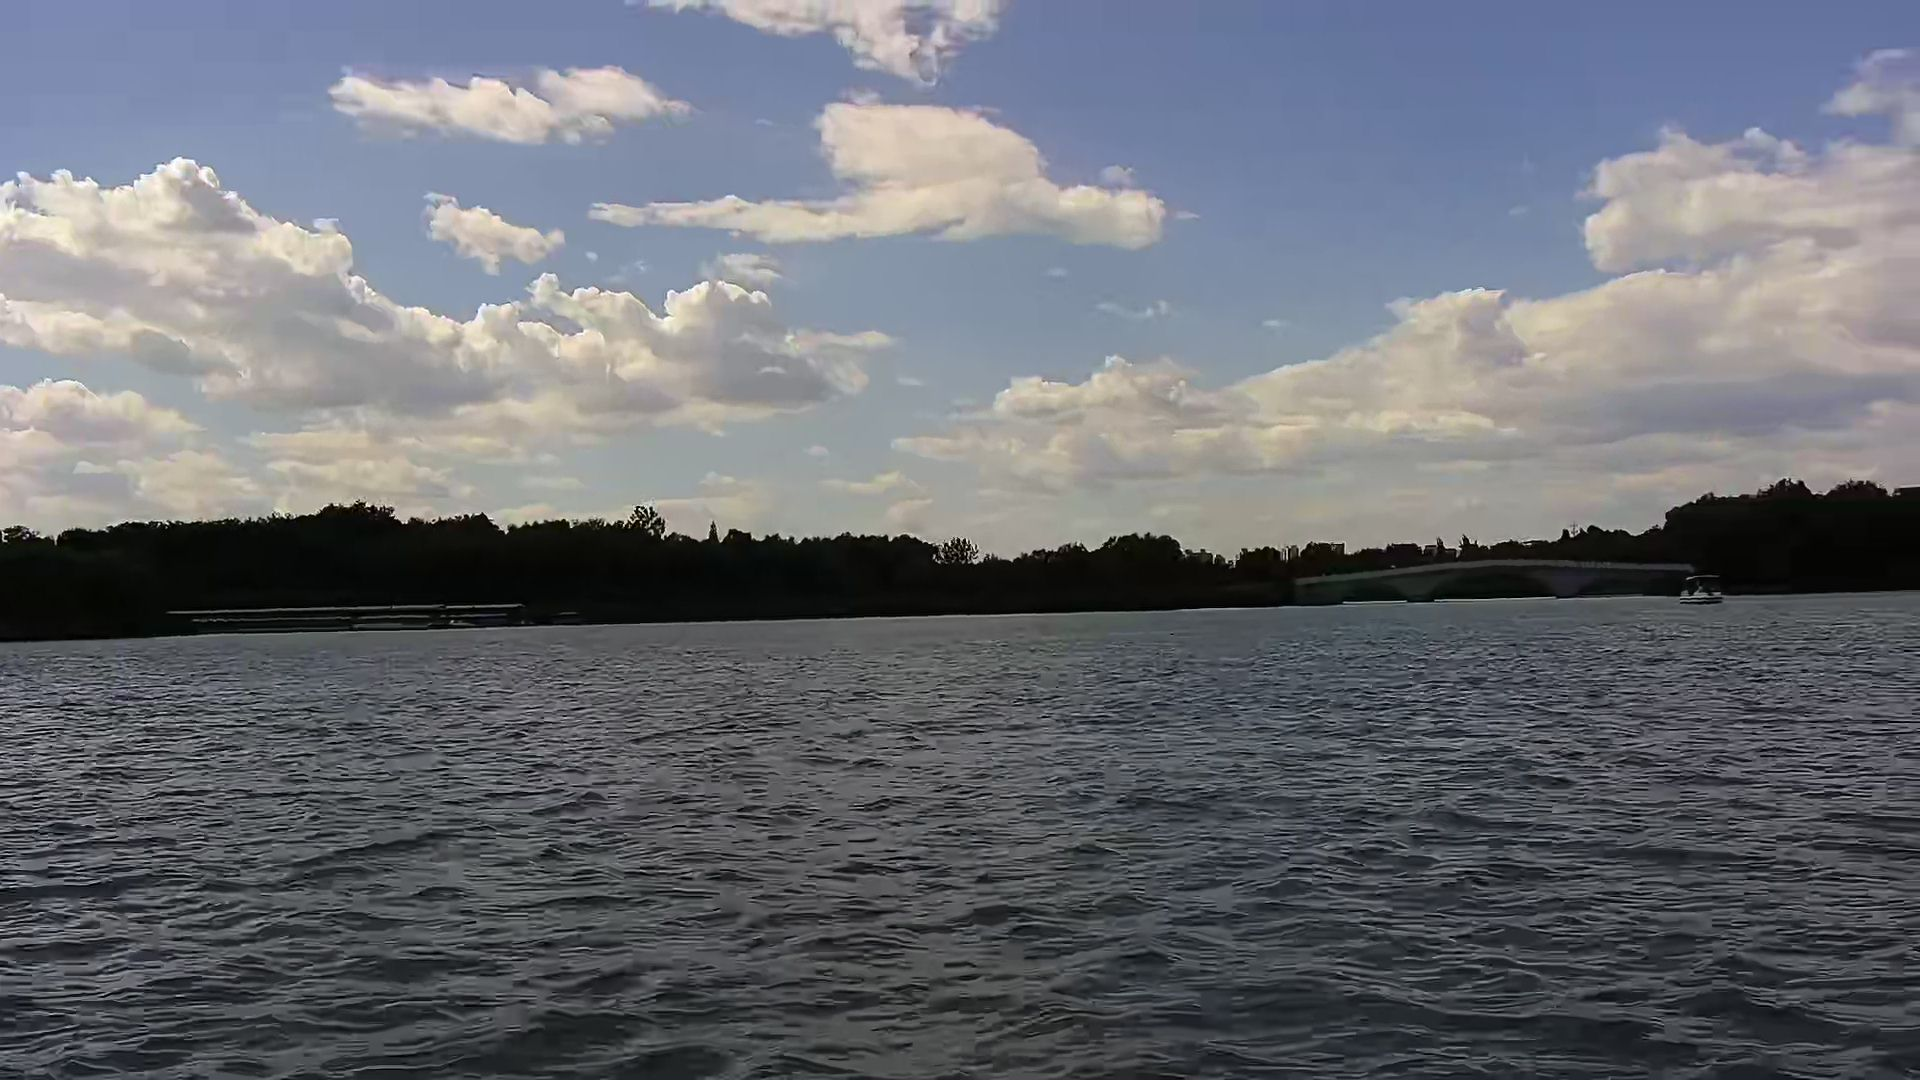boat: (1681, 570, 1729, 607)
bridge: (1299, 563, 1683, 607), (169, 603, 527, 632)
